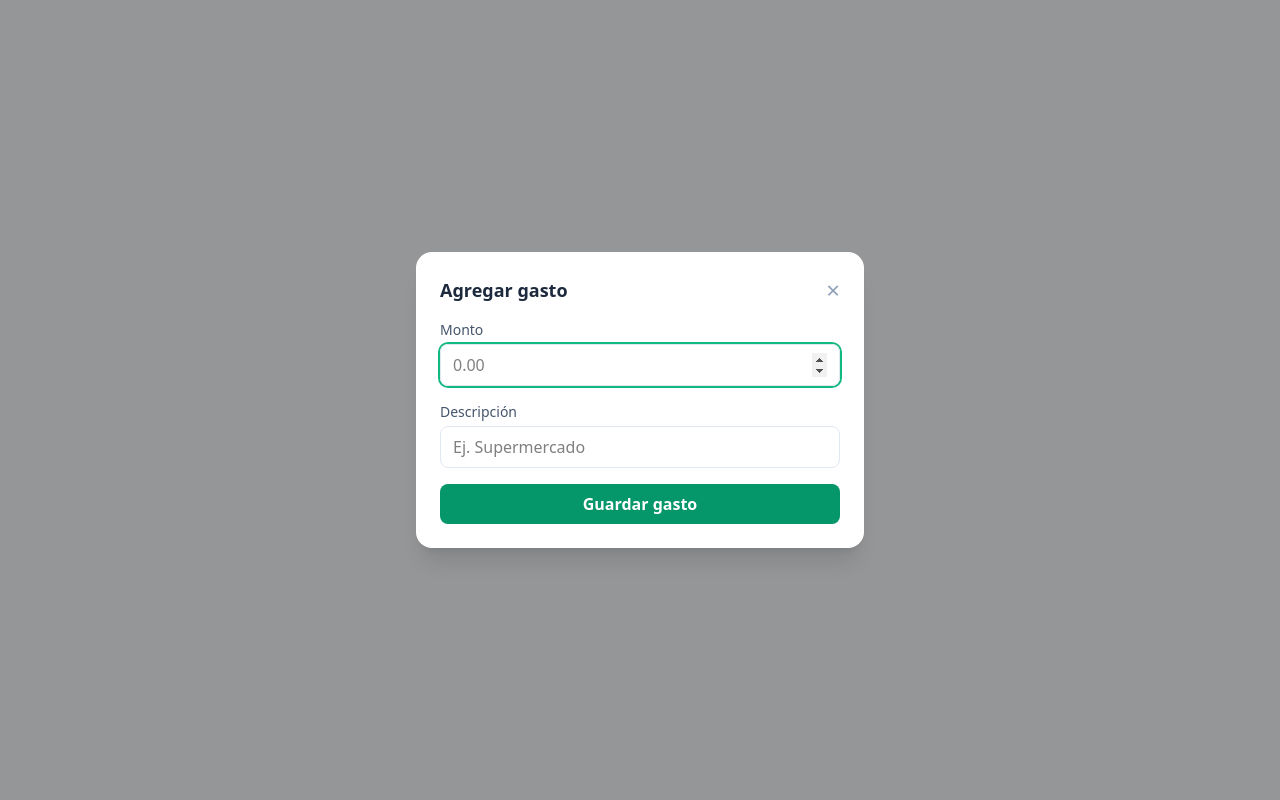
Test: ModalGasto › valida monto y descripción antes de guardar
Click the button "Guardar gasto" at (640, 504), box [440,484,840,524]
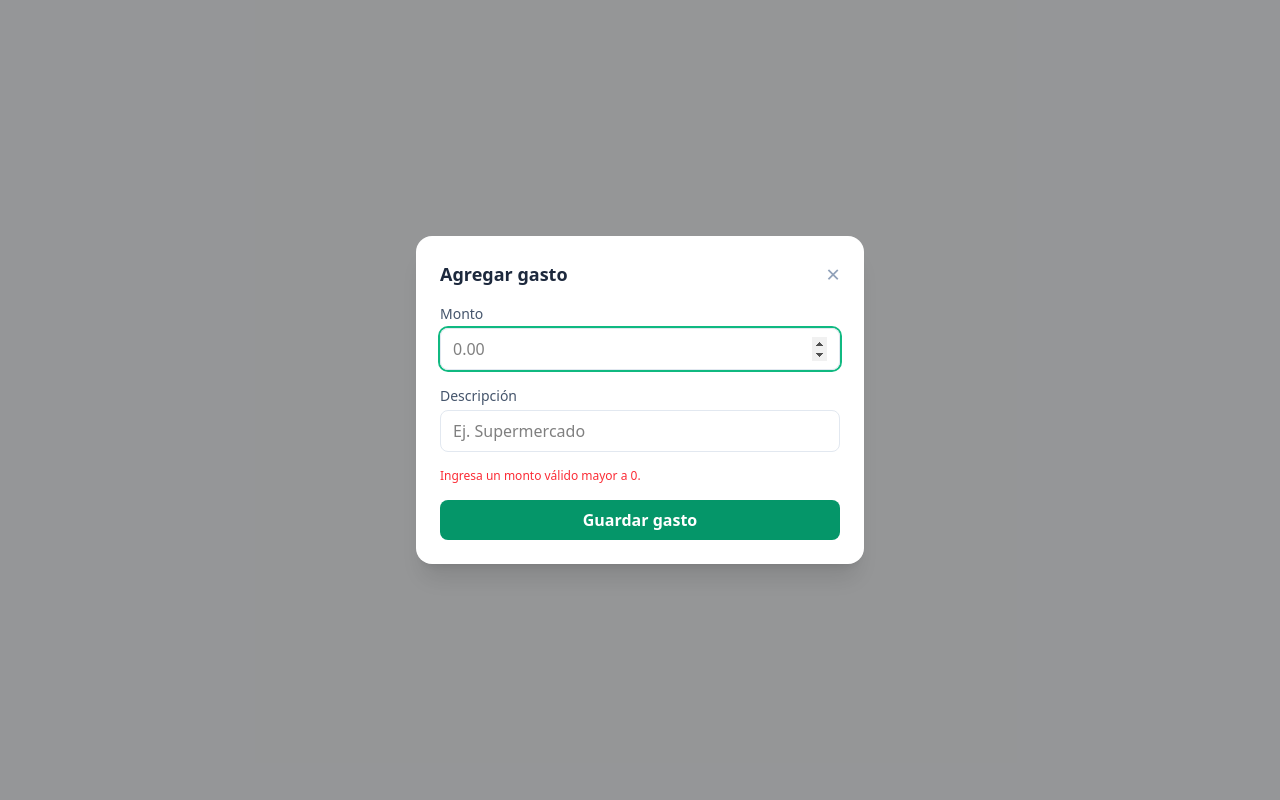
Expected: the text "Ingresa un monto válido mayor a 0." is shown, [440,467,641,484]
